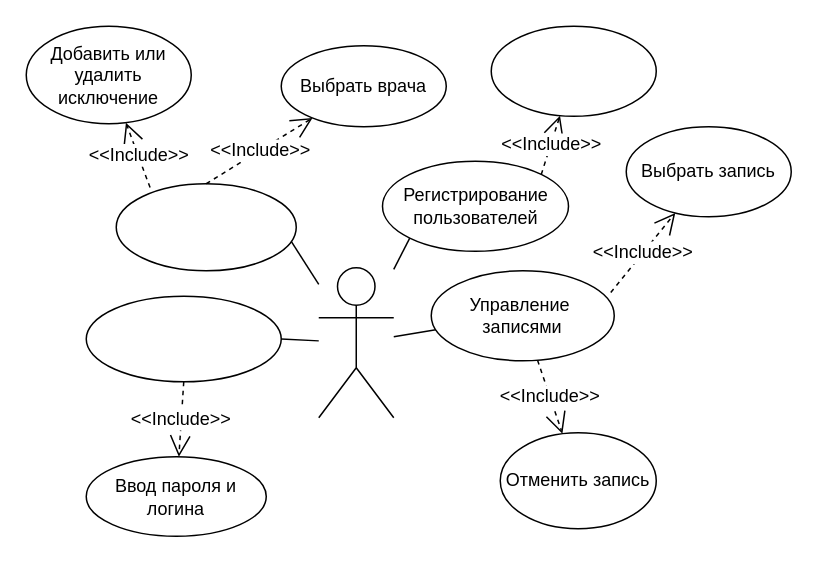
Image size: 818x563. Some labels were removed from this diagram. Here are the shapes that lost their labels. From the top down, the centre of each, then its label:
the point at 573,70: Ввести информацию о пользователе
the point at 205,226: Управление расписанием врача
the point at 183,338: Аутентификация и авторизация
the point at 355,342: Администратор
